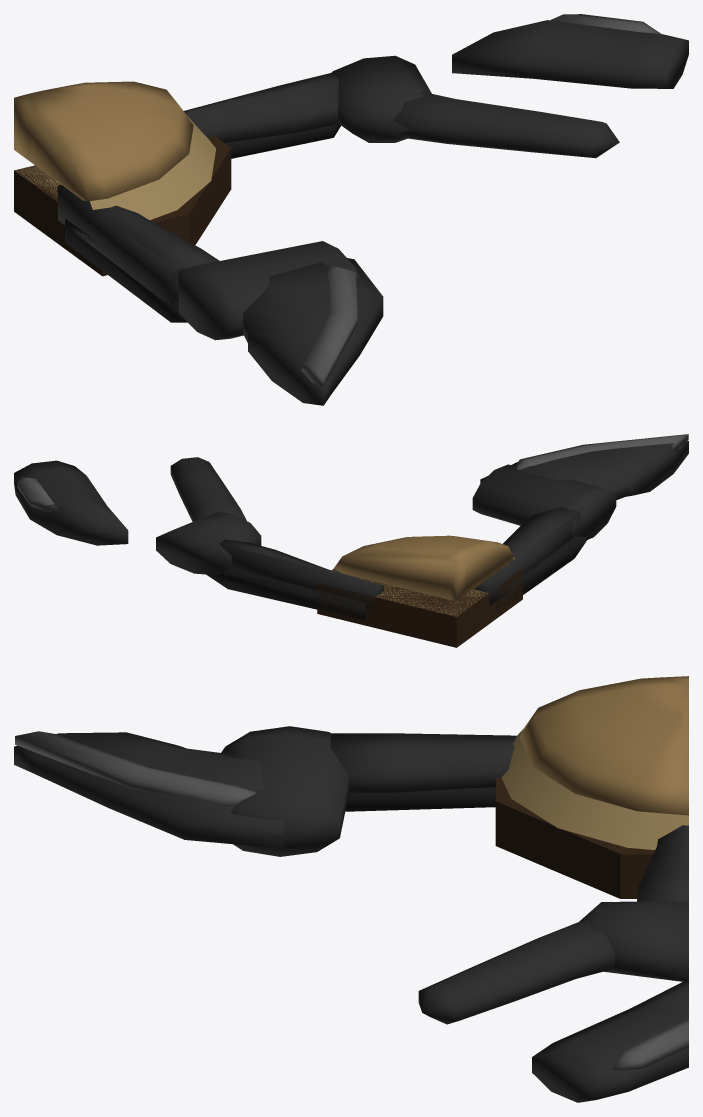
File: newsh-hash-41-f6.glb
3 renders of one model, top to bottom at view 1: azimuth 30°, elevation 25°; view 2: azimuth 150°, elevation 25°; view 3: azimuth 270°, elevation 25°, orthographic. The views are drawn at different scales.
Parts seen in each view (by area): view 1: newsh-hash-41-f6; view 2: newsh-hash-41-f6; view 3: newsh-hash-41-f6.
Boxes of the visible parts, x1=… form: newsh-hash-41-f6: x1=14, y1=14, x2=688, y2=405; newsh-hash-41-f6: x1=14, y1=434, x2=688, y2=647; newsh-hash-41-f6: x1=14, y1=676, x2=688, y2=1102.
Bounding box in the file's own units: 1.61 × 0.2774 × 1.36.
